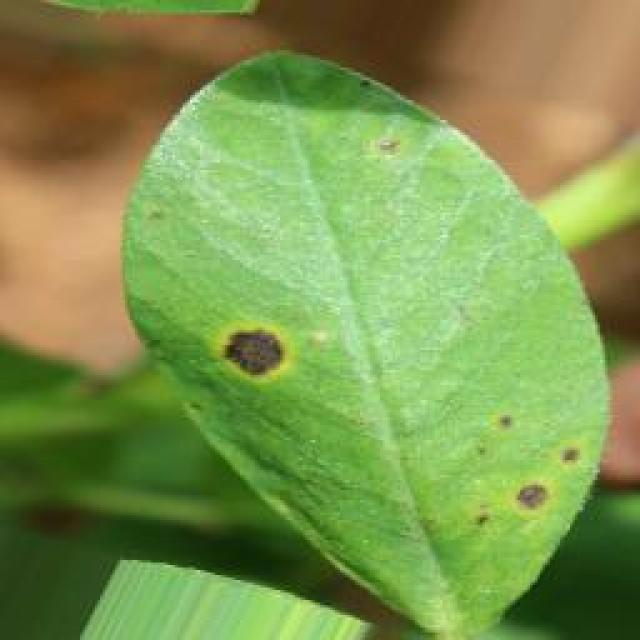Sigatoka: (455, 394, 597, 556), (202, 313, 286, 399), (359, 113, 432, 203)
